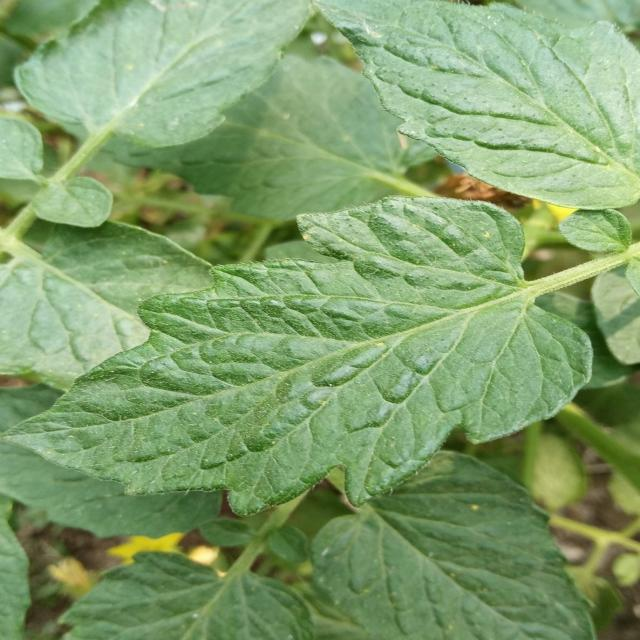Healthy: (0, 126, 612, 637), (303, 0, 640, 212), (312, 451, 594, 640), (16, 0, 309, 146), (0, 222, 210, 388)
